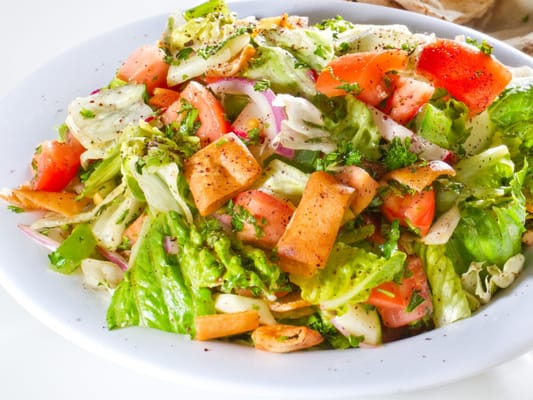pizza: (326, 51, 410, 103), (32, 139, 86, 192), (381, 187, 436, 235)
